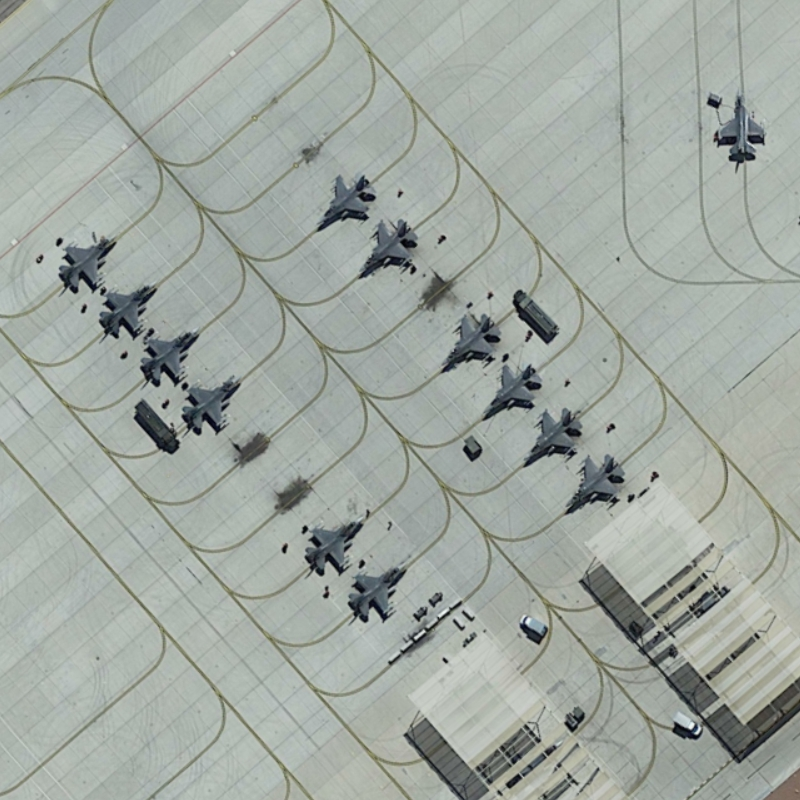A5: (295, 504, 368, 578), (520, 397, 589, 474), (434, 304, 506, 374), (344, 554, 414, 624), (710, 85, 770, 166), (559, 452, 631, 519), (136, 320, 205, 388), (476, 357, 548, 422), (91, 275, 161, 339), (180, 374, 246, 438), (355, 214, 418, 281), (54, 232, 120, 294), (309, 167, 376, 228)
